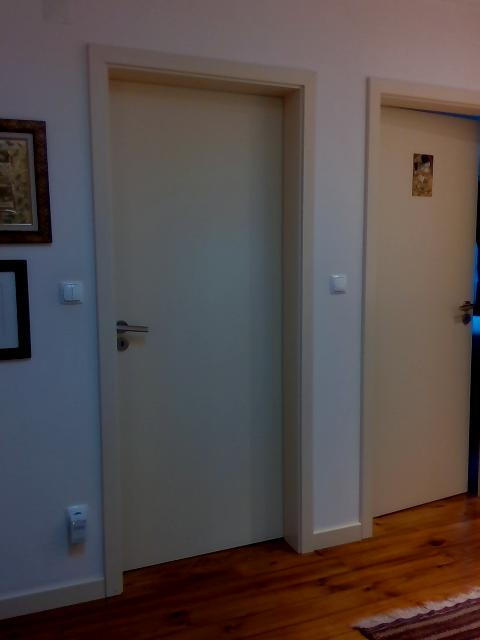closed_door: (104, 66, 298, 573)
